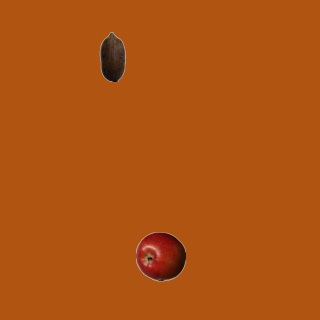Apple Braeburn: (135, 231, 185, 281)
Nut Pecan: (87, 31, 137, 81)
